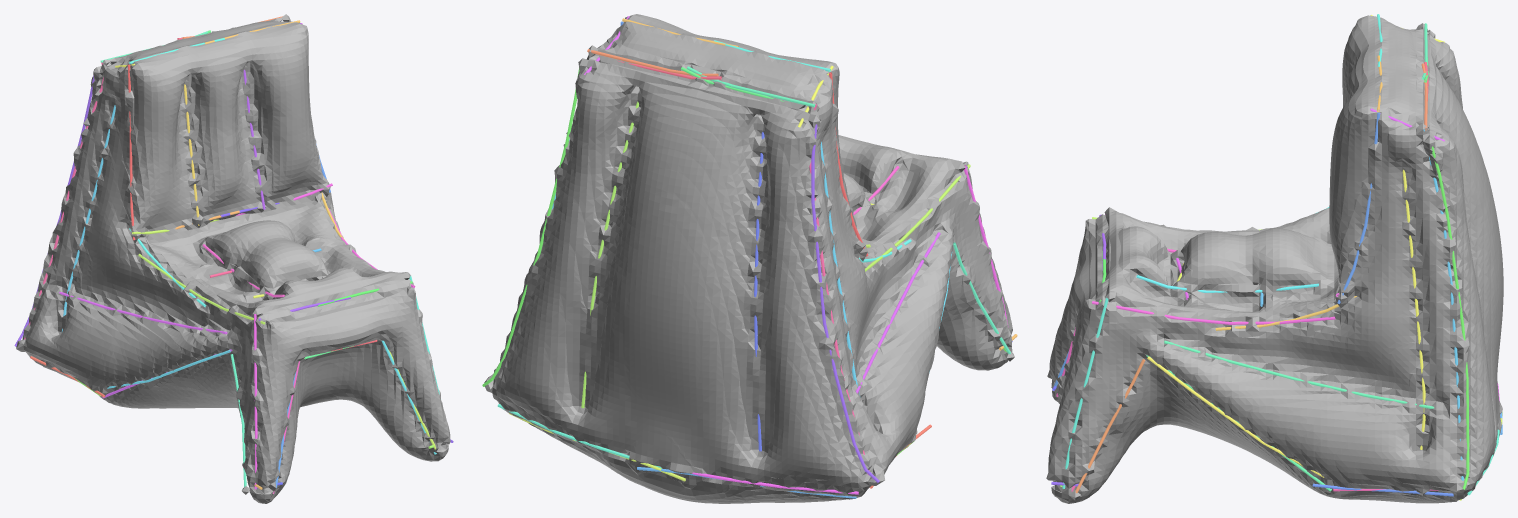
Rendered from author1_chair_ff.gltf.
3 views of the same model, side by side, from view 1: azimuth 30°, elevation 25°; view 2: azimuth 150°, elevation 25°; view 3: azimuth 270°, elevation 25° (orthographic). The views are drawn at different scales.
Bounding box in the file's own units: 0.5819 × 0.5942 × 0.6095.
